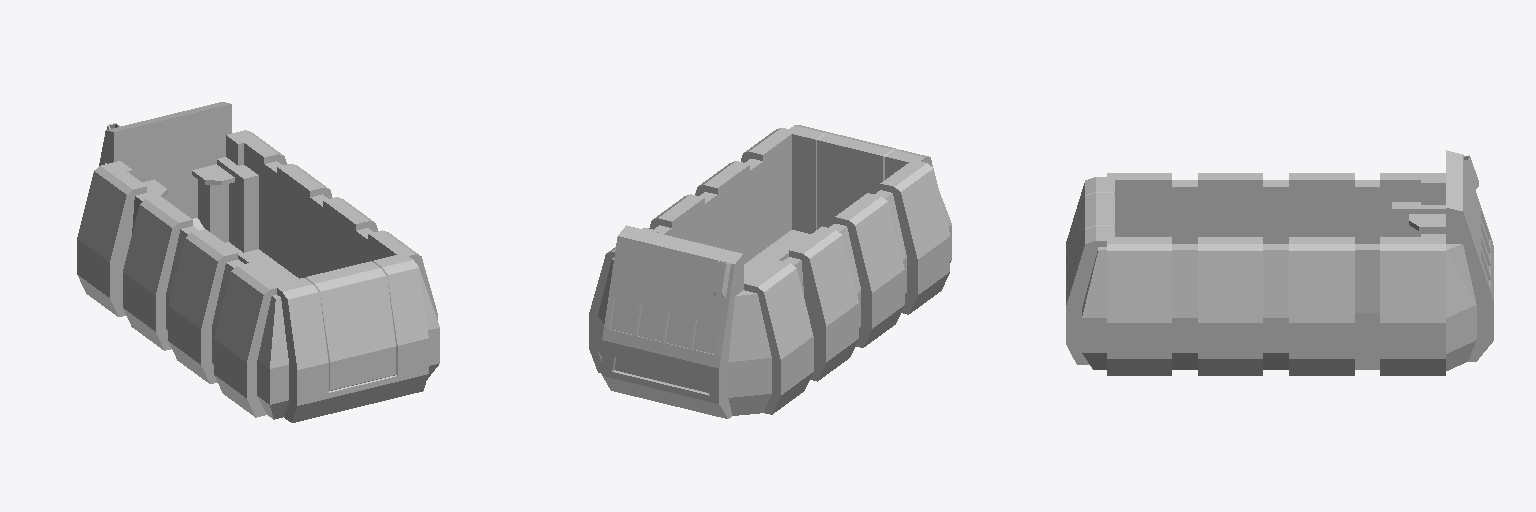
File: scoot_shell.obj
3 views of the same model, side by side, from view 1: azimuth 30°, elevation 25°; view 2: azimuth 150°, elevation 25°; view 3: azimuth 270°, elevation 25° (orthographic).
Visible parts, largest first — view 1: Mesh_0013.rip; view 2: Mesh_0013.rip; view 3: Mesh_0013.rip.
Boxes of the visible parts, x1,y1,x2,y2 form: Mesh_0013.rip: [77, 102, 439, 422]; Mesh_0013.rip: [589, 125, 951, 418]; Mesh_0013.rip: [1066, 150, 1493, 375].
Size of the model in its own units: 2.16 by 1.66 by 4.18.